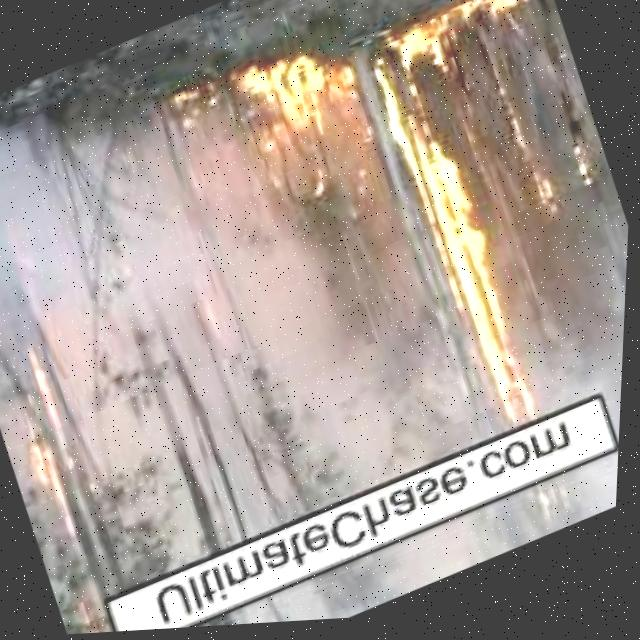Fire: (384, 103, 570, 446), (230, 0, 573, 180), (14, 404, 114, 551), (498, 102, 576, 243), (565, 133, 608, 207)
Smoke: (0, 0, 503, 619), (176, 450, 623, 631)
